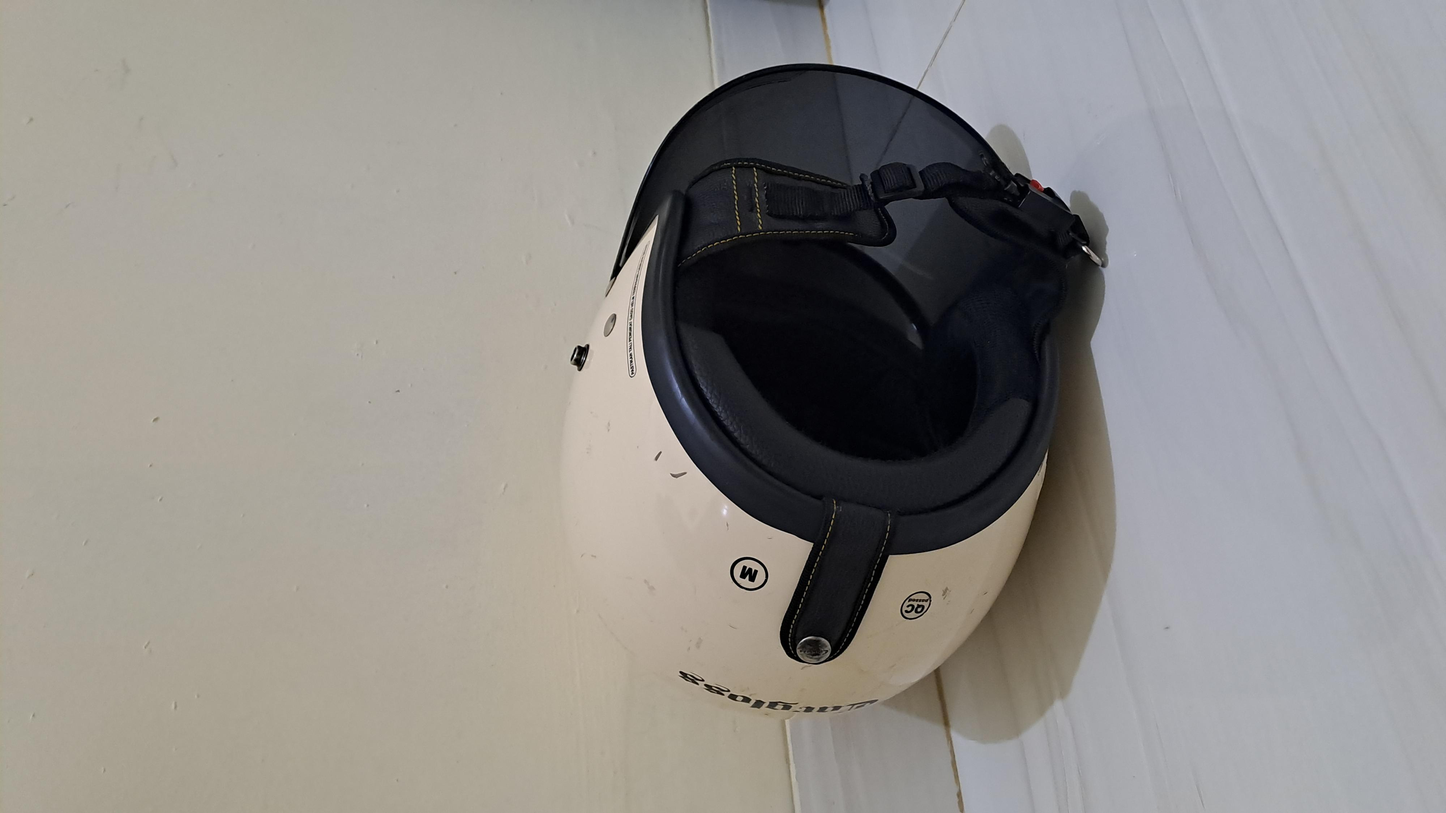helmet: (118, 299, 1361, 630)
